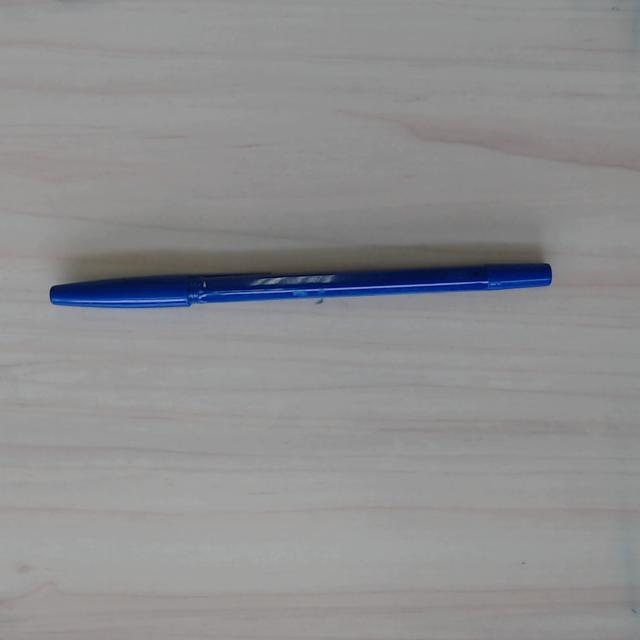Pulpen-Biru: (50, 262, 553, 311)
